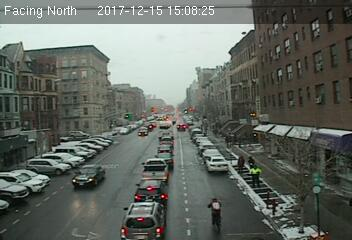bicycle: (209, 197, 225, 234)
car: (118, 202, 168, 240), (71, 164, 106, 188), (134, 179, 168, 203), (140, 158, 168, 179), (204, 156, 228, 174), (156, 153, 174, 167), (156, 143, 172, 153), (176, 123, 186, 131)
pedestrian: (251, 165, 262, 189), (236, 154, 247, 178)
